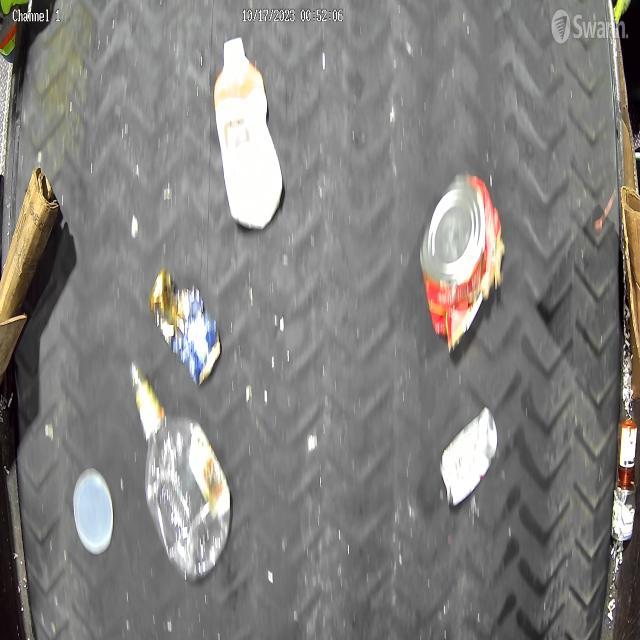can: (419, 170, 505, 350), (151, 271, 222, 384), (439, 407, 498, 507), (611, 483, 636, 542)
non_white_jug: (214, 36, 284, 230)
plastic_bottle: (132, 367, 231, 582)
